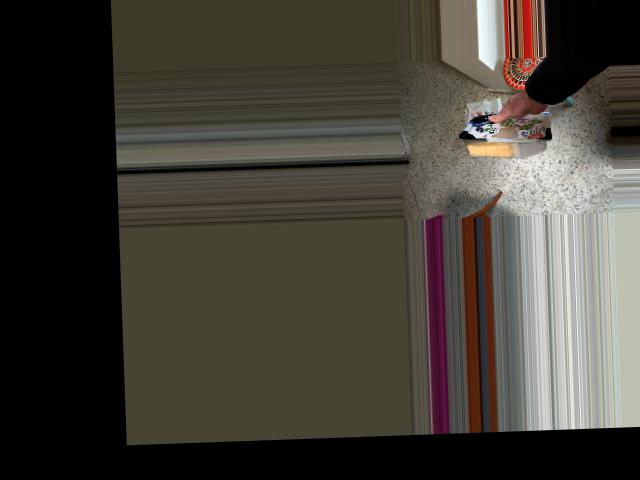cheese: (454, 89, 564, 184)
